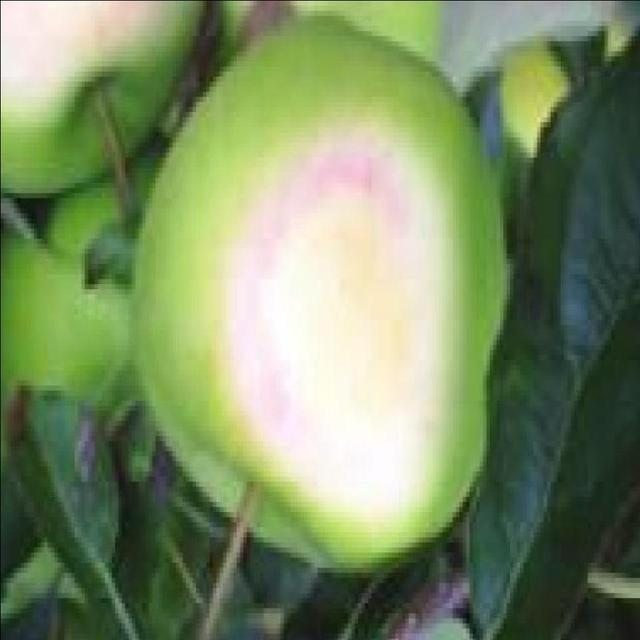Sunscald Fruit: (138, 81, 307, 365)
